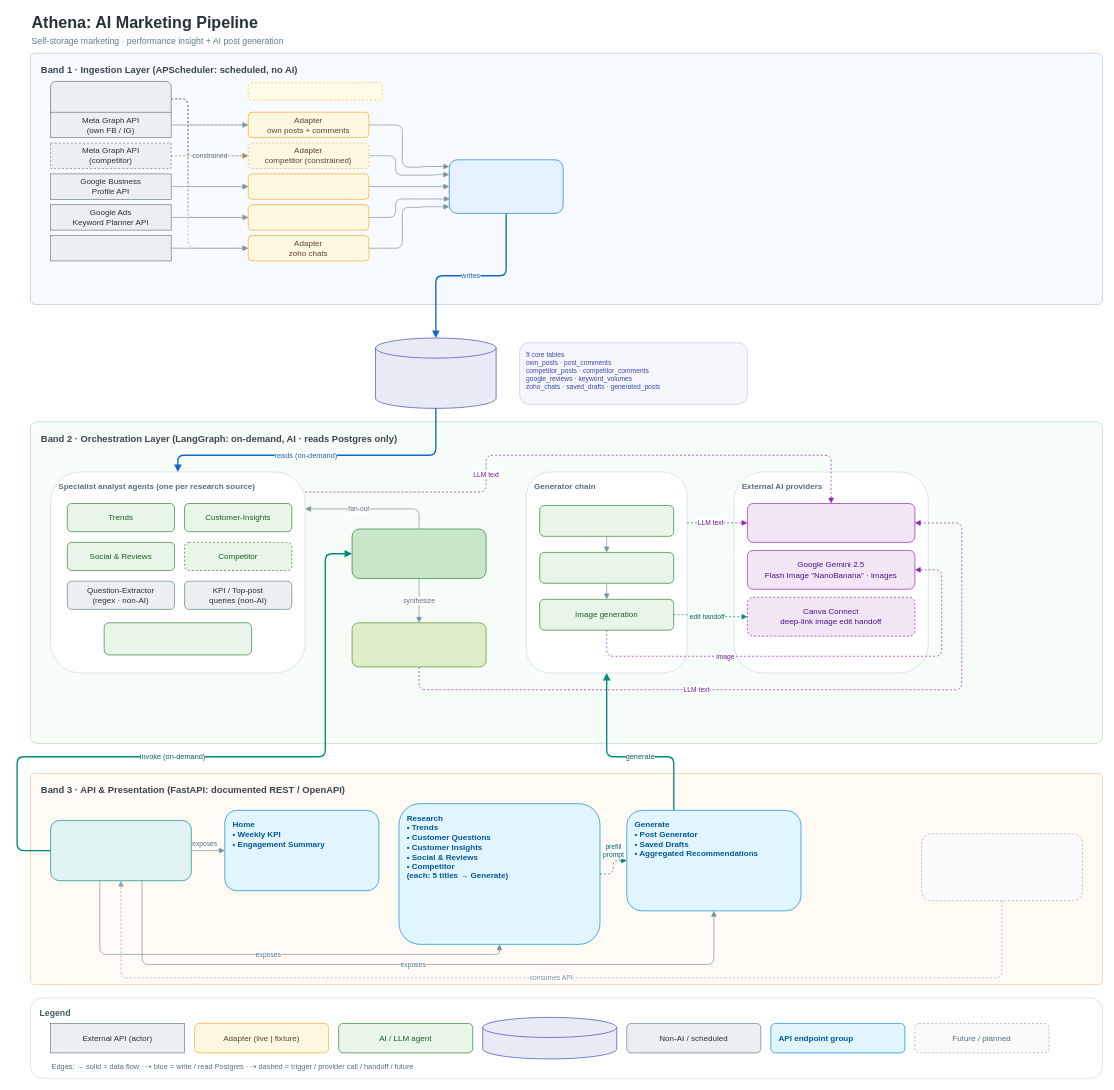
Some shapes in this 1114 by 1090 pixel diagram are drawn without their labels. Each missing label, with the centre of its shape:
"Adapter google reviews" goes at (308,186).
"Adapter keyword volumes" goes at (308,217).
"APScheduler Worker daily / weekly jobs" goes at (110,98).
"Caption agent" goes at (606,520).
"Datastore (Postgres)" goes at (549,1038).
"DeepSeek deepseek/deepseek-v4-flash via OpenRouter · text" goes at (831,522).
"FastAPI service OpenAPI / REST endpoints" goes at (120,850).
"Future External Frontend consumes documented API (planned)" goes at (1001,867).
"Image-prompt agent" goes at (606,567).
"normalize and upsert" goes at (506,186).
"PostgreSQL central datastore" goes at (435,372).
"SOURCE_MODE: live | fixture" goes at (315,91).
"Supervisor / Aggregator fan-out across sources" goes at (418,553).
"Synthesis cross-source recommendations" goes at (418,644).
"Title-suggester agent 5 titles + prefill prompt" goes at (178,638).
"Zoho CRM API" goes at (110,248).
